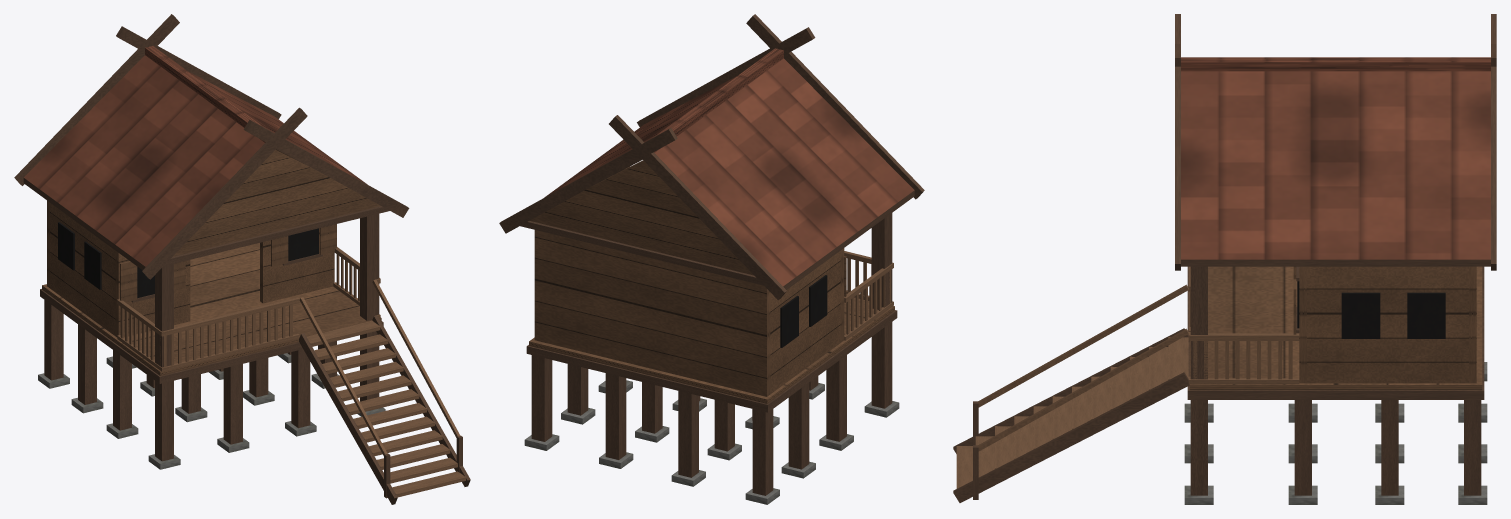
File: Kuti.fbx
3 views of the same model, side by side, from view 1: azimuth 30°, elevation 25°; view 2: azimuth 150°, elevation 25°; view 3: azimuth 270°, elevation 25° (orthographic). The views are drawn at different scales.
Parts seen in each view (by area): view 1: Kuti_Roof, Kuti_Stilts, Kuti_House; view 2: Kuti_Roof, Kuti_House, Kuti_Stilts; view 3: Kuti_Roof, Kuti_Stilts, Kuti_House.
Boxes of the visible parts, x1=… form: Kuti_Roof: x1=14, y1=14, x2=409, y2=279; Kuti_Stilts: x1=38, y1=213, x2=470, y2=504; Kuti_House: x1=47, y1=149, x2=380, y2=371; Kuti_Roof: x1=499, y1=14, x2=924, y2=299; Kuti_House: x1=534, y1=166, x2=893, y2=396; Kuti_Stilts: x1=524, y1=213, x2=899, y2=504; Kuti_Roof: x1=1175, y1=14, x2=1496, y2=270; Kuti_Stilts: x1=953, y1=266, x2=1487, y2=504; Kuti_House: x1=1188, y1=266, x2=1476, y2=384.
Size of the model in its own units: 825 by 990 by 1185.
1 material, 1 textured.
